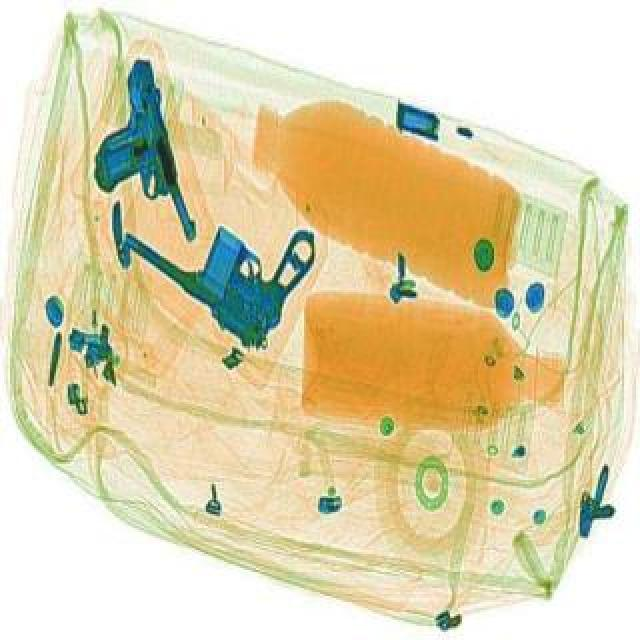gun: (110, 148, 348, 358), (66, 50, 202, 250)
